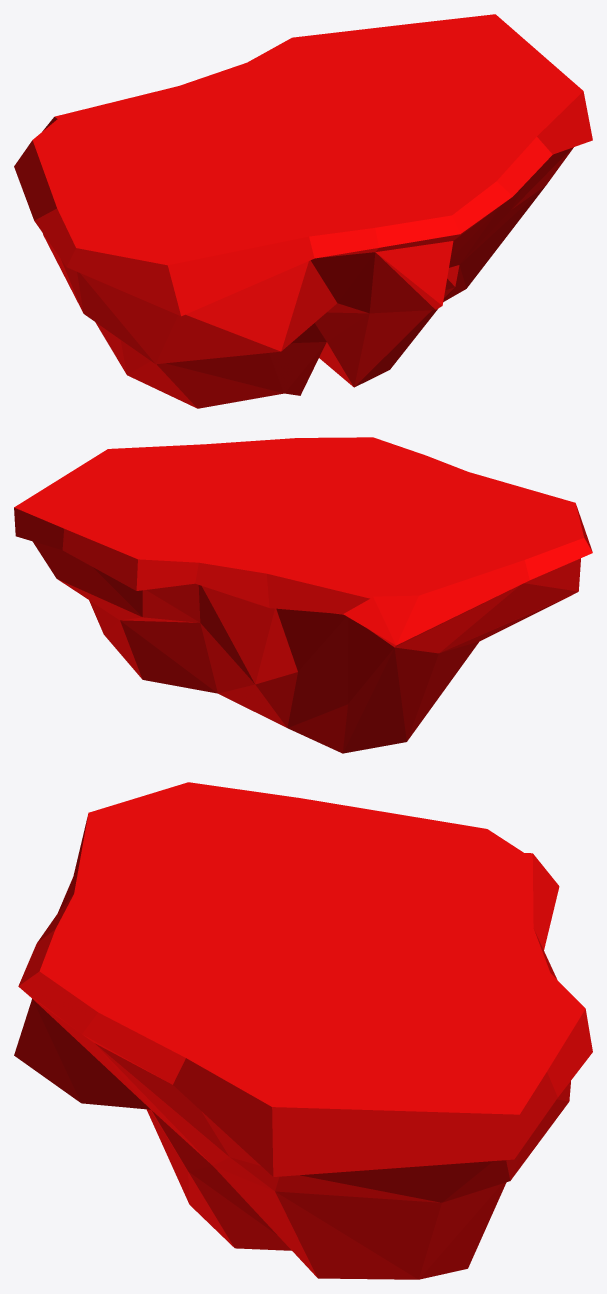
Rendered from SM_Platform_01.fbx.
3 renders of one model, top to bottom at view 1: azimuth 30°, elevation 25°; view 2: azimuth 150°, elevation 25°; view 3: azimuth 270°, elevation 25°, orthographic. The views are drawn at different scales.
Visible parts, largest first — view 1: SM_Platform_01; view 2: SM_Platform_01; view 3: SM_Platform_01.
Part boxes in pixels (x1,y1,x2,y2): SM_Platform_01: (14,14,592,408); SM_Platform_01: (14,437,592,753); SM_Platform_01: (14,782,592,1279).
Bounding box in the file's own units: 649 × 469 × 271.
